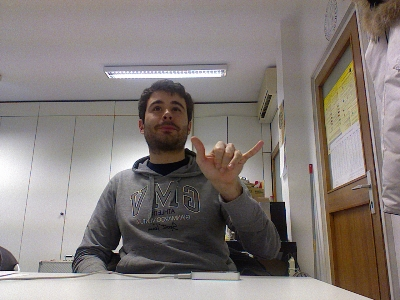六六六: (188, 135, 265, 186)
